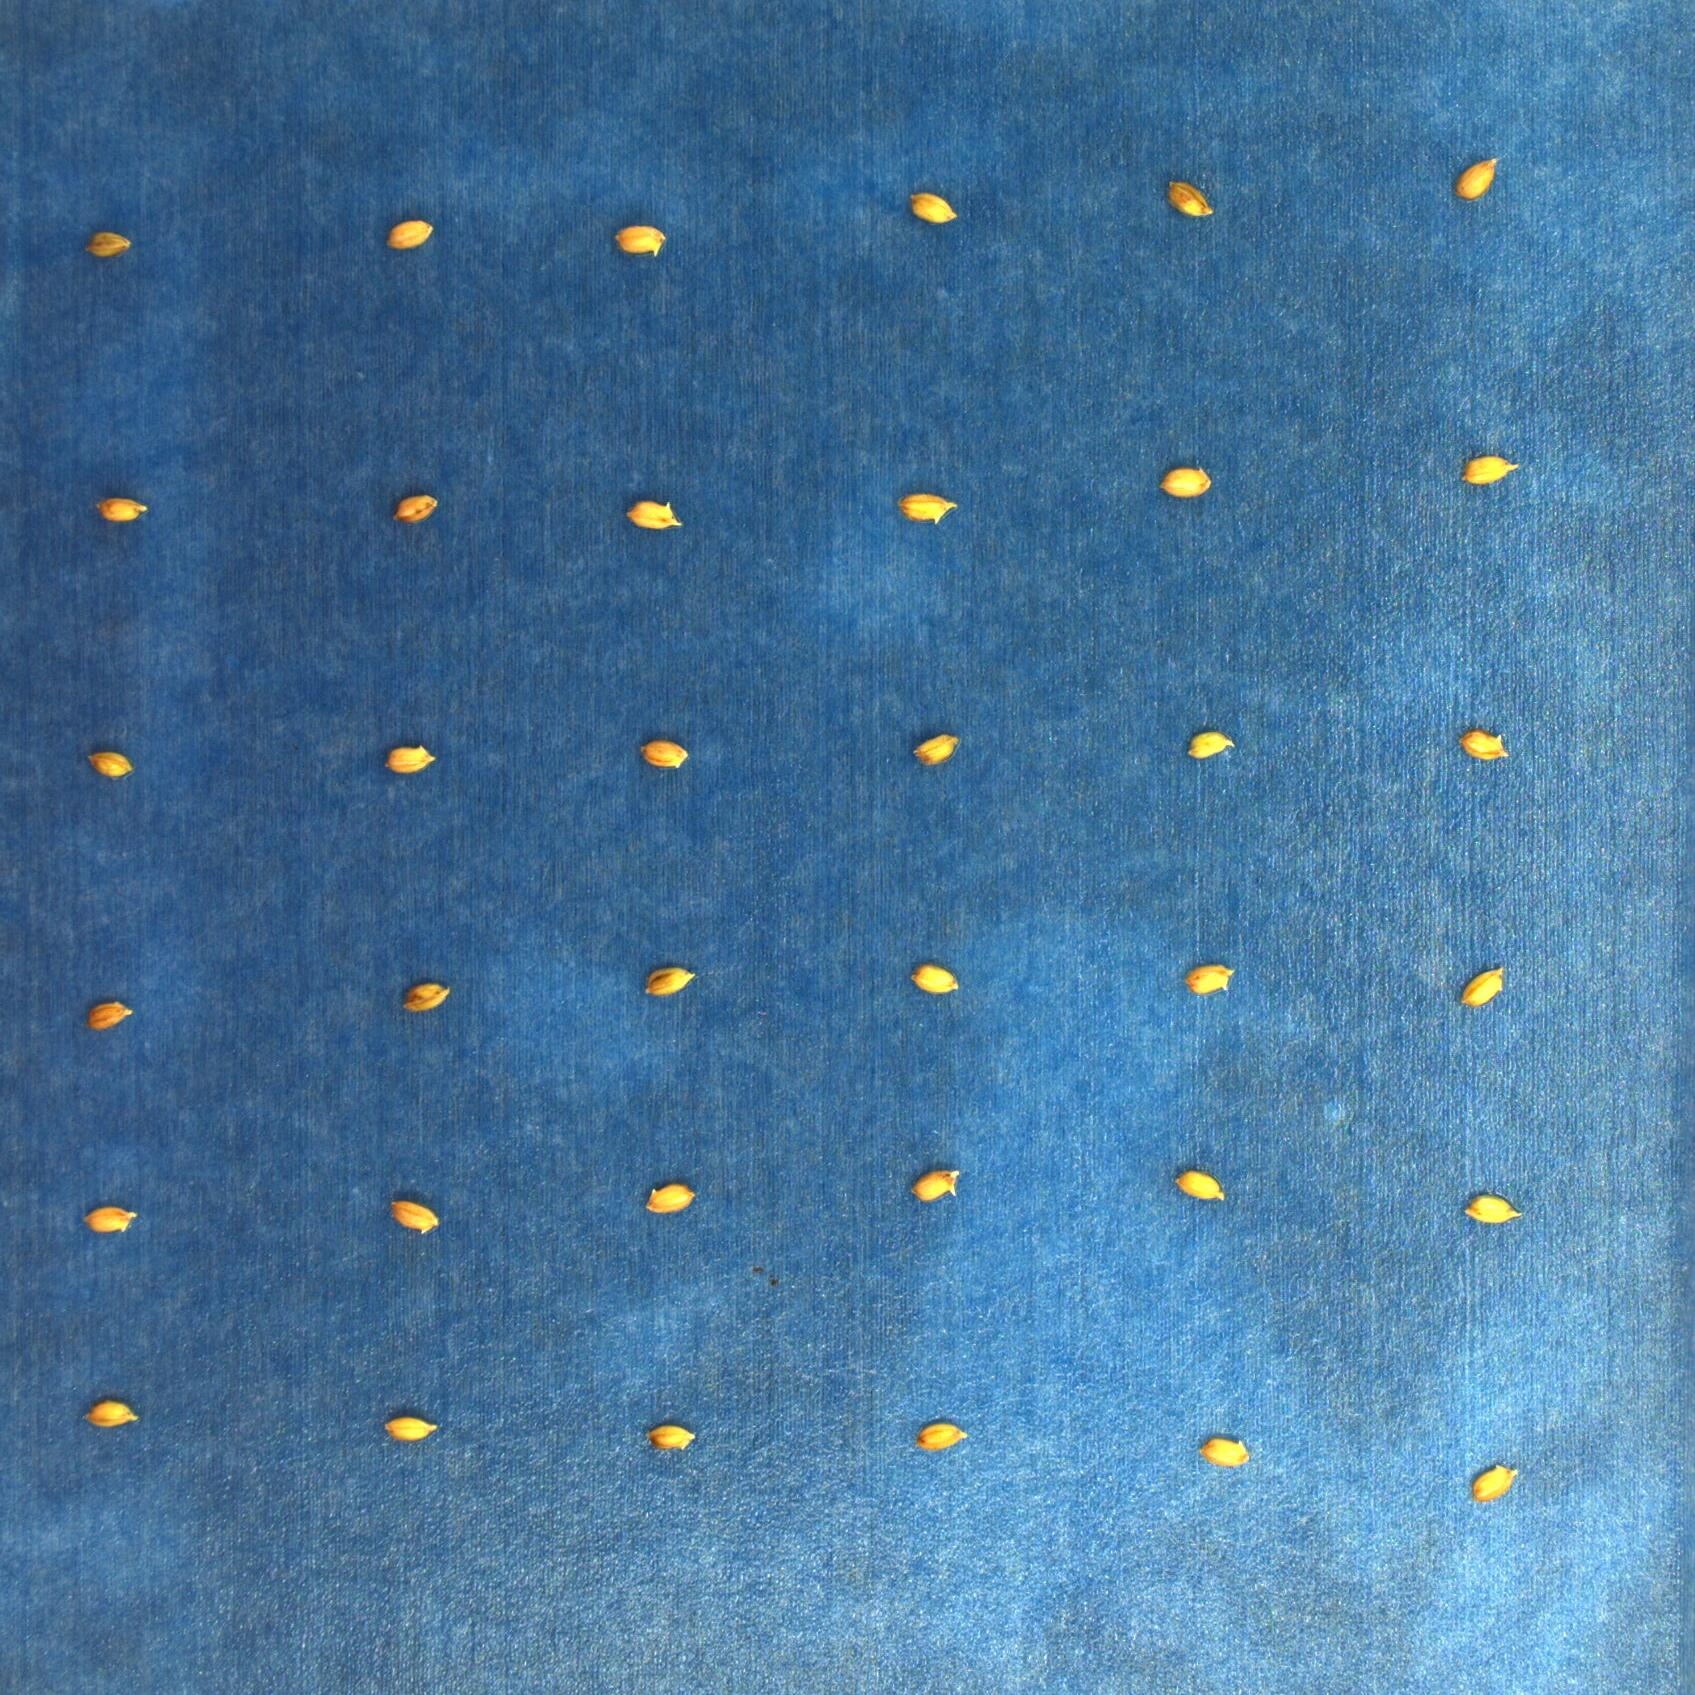not sprout: (1453, 154, 1499, 203), (1461, 965, 1510, 1007), (1461, 453, 1520, 487), (899, 492, 958, 525), (626, 498, 683, 531), (1471, 1465, 1520, 1504), (911, 1167, 961, 1205), (1166, 180, 1214, 217), (1464, 1194, 1521, 1223), (914, 1420, 969, 1451), (1198, 1437, 1253, 1468), (615, 225, 666, 258), (913, 733, 961, 767), (391, 1198, 439, 1232), (1173, 1170, 1226, 1201), (643, 965, 694, 997), (383, 1416, 439, 1444), (1159, 469, 1212, 498), (383, 219, 433, 250), (641, 739, 691, 770), (1461, 730, 1510, 761), (646, 1183, 695, 1214), (383, 747, 438, 775), (84, 1206, 138, 1234), (85, 1399, 140, 1426), (911, 964, 962, 993), (911, 192, 959, 224), (82, 231, 132, 261), (85, 750, 132, 781), (85, 1000, 132, 1031), (404, 983, 450, 1014), (1186, 964, 1234, 993), (393, 494, 438, 525), (646, 1425, 698, 1451), (1183, 731, 1232, 759), (95, 498, 146, 525)
